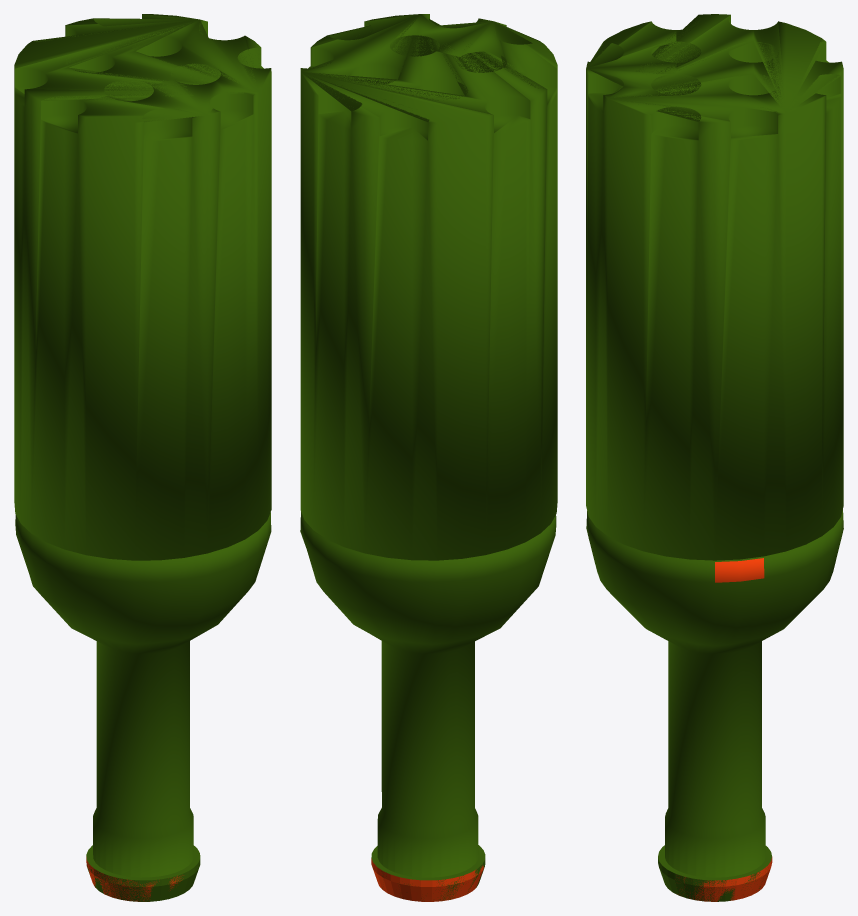
Rendered from bottle.obj.
The picture shows the model from 3 angles, left to right: view 1: azimuth 30°, elevation 25°; view 2: azimuth 150°, elevation 25°; view 3: azimuth 270°, elevation 25°; orthographic projection.
Parts seen in each view (by area): view 1: BouteilleHaut_Cylinder.004, Capsule_Cylinder.002; view 2: BouteilleHaut_Cylinder.004, Capsule_Cylinder.002; view 3: BouteilleHaut_Cylinder.004, Capsule_Cylinder.002.
Boxes of the visible parts, bbox=[...] form: BouteilleHaut_Cylinder.004: bbox=[14, 14, 271, 901]; Capsule_Cylinder.002: bbox=[86, 857, 183, 901]; BouteilleHaut_Cylinder.004: bbox=[300, 14, 557, 901]; Capsule_Cylinder.002: bbox=[371, 858, 483, 901]; BouteilleHaut_Cylinder.004: bbox=[586, 14, 843, 901]; Capsule_Cylinder.002: bbox=[675, 856, 772, 901].
Bounding box in the file's own units: 26.71 × 92.72 × 26.68.
Materials: 6 (6 with a texture image).
